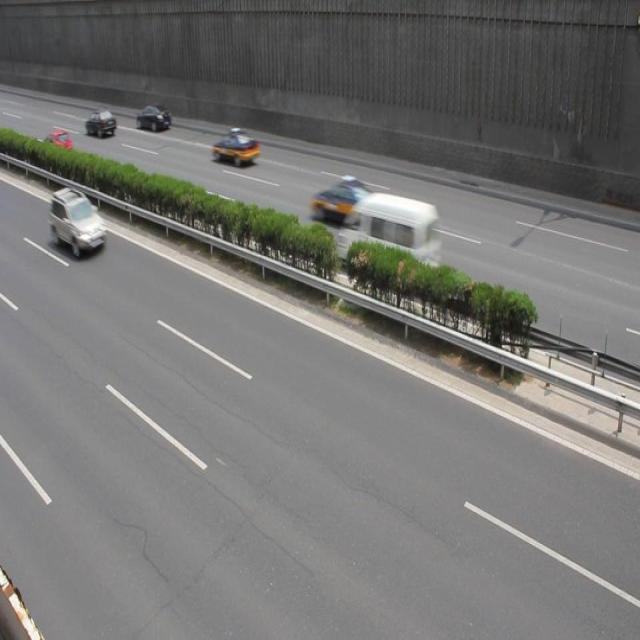car: (49, 186, 108, 260), (312, 178, 388, 232), (212, 126, 260, 166), (41, 126, 75, 163), (136, 104, 172, 134), (86, 108, 118, 140)
truck: (335, 194, 442, 286)
